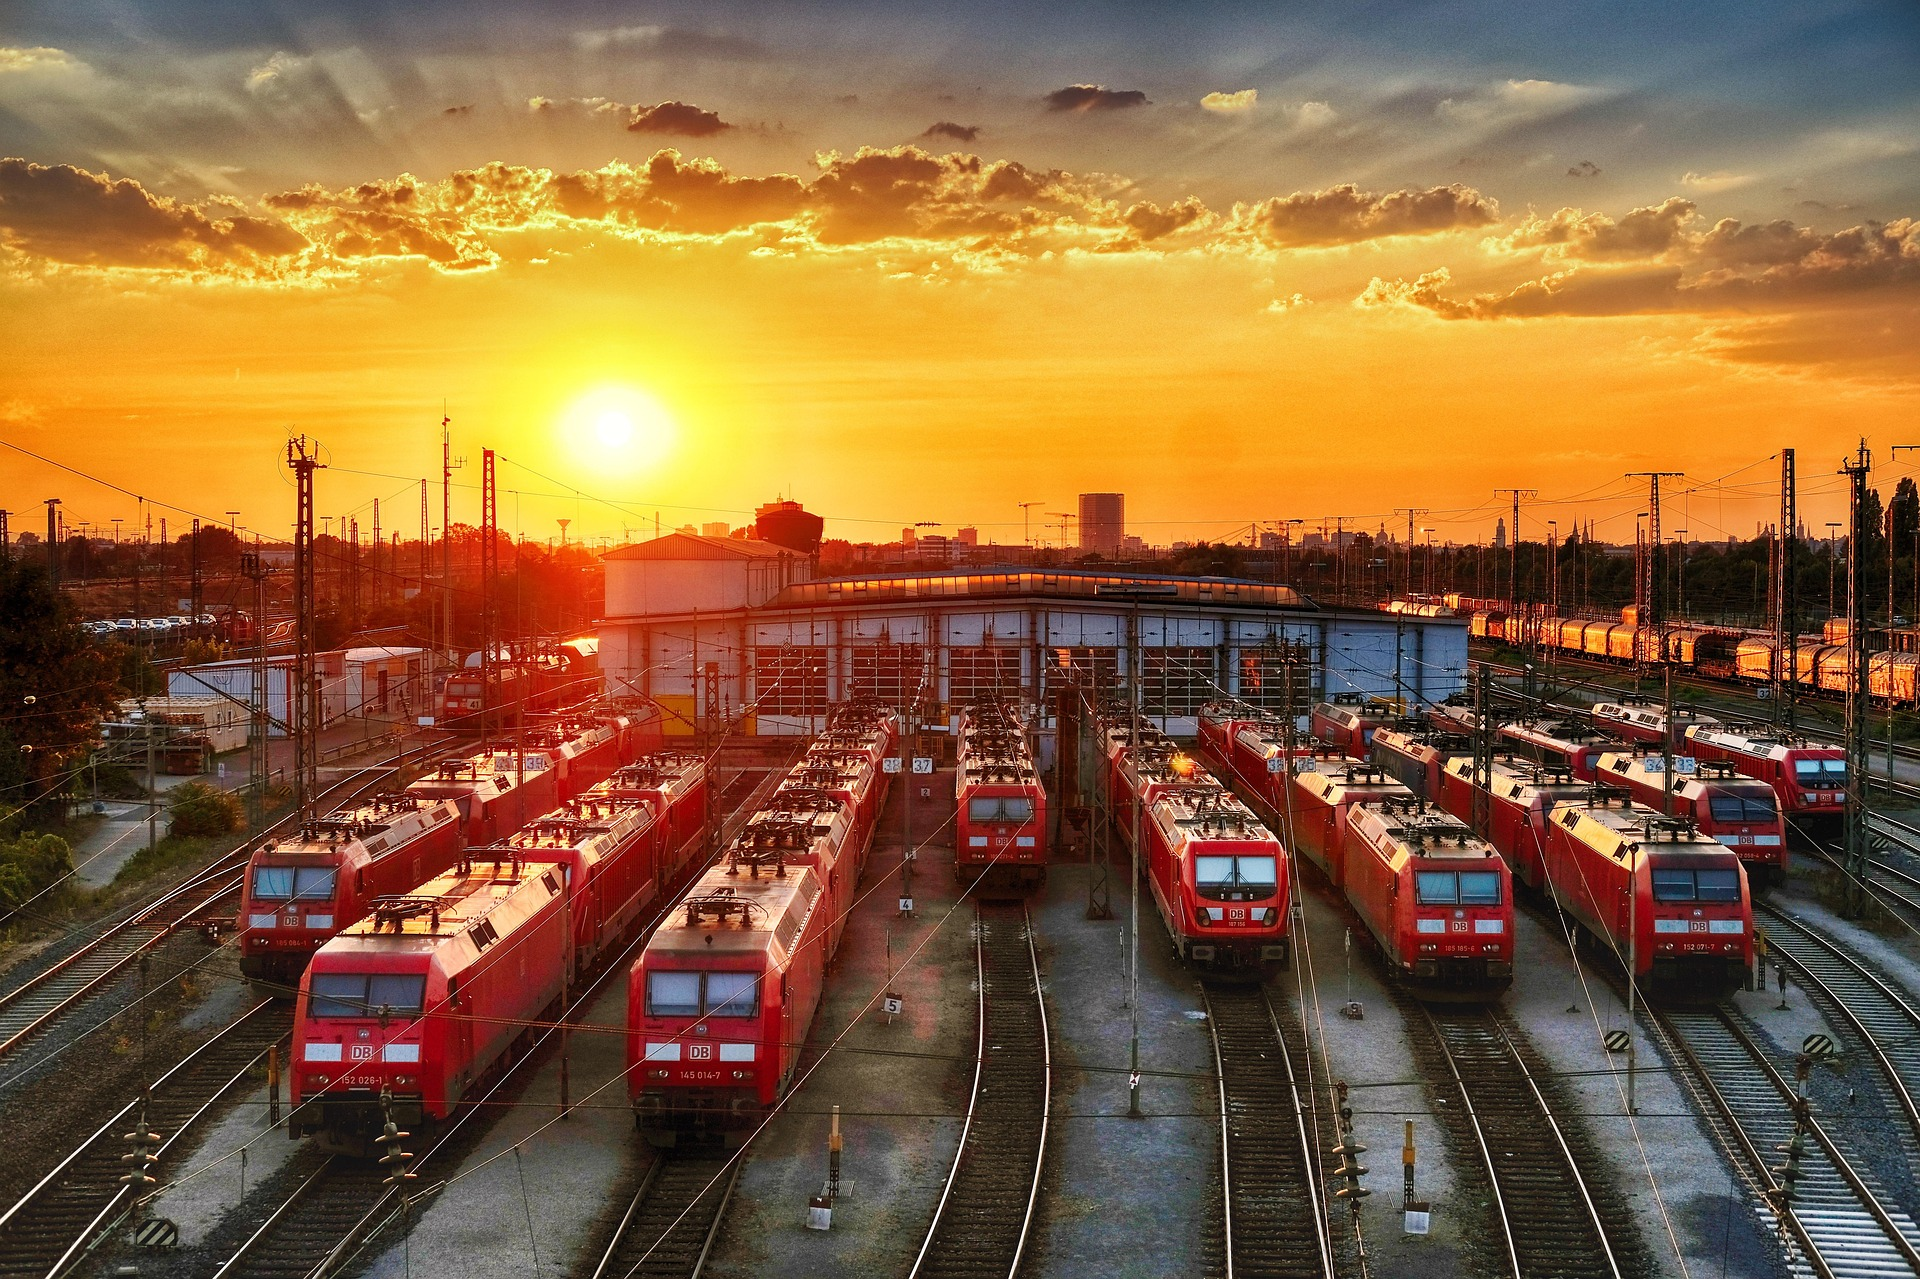train1: (223, 697, 657, 979)
train2: (284, 751, 724, 1126)
train3: (620, 701, 896, 1126)
train4: (945, 702, 1052, 914)
train5: (1088, 712, 1302, 985)
train6: (1198, 699, 1522, 1012)
